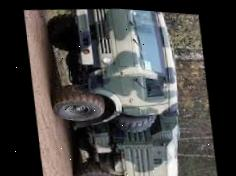truck: (35, 3, 197, 176)
